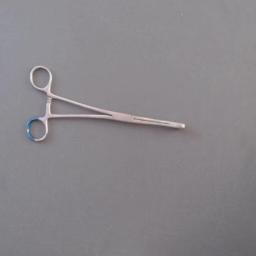Sponge Forceps: (22, 62, 188, 148)
